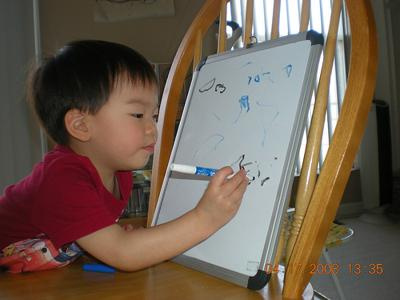person: (2, 41, 249, 274)
